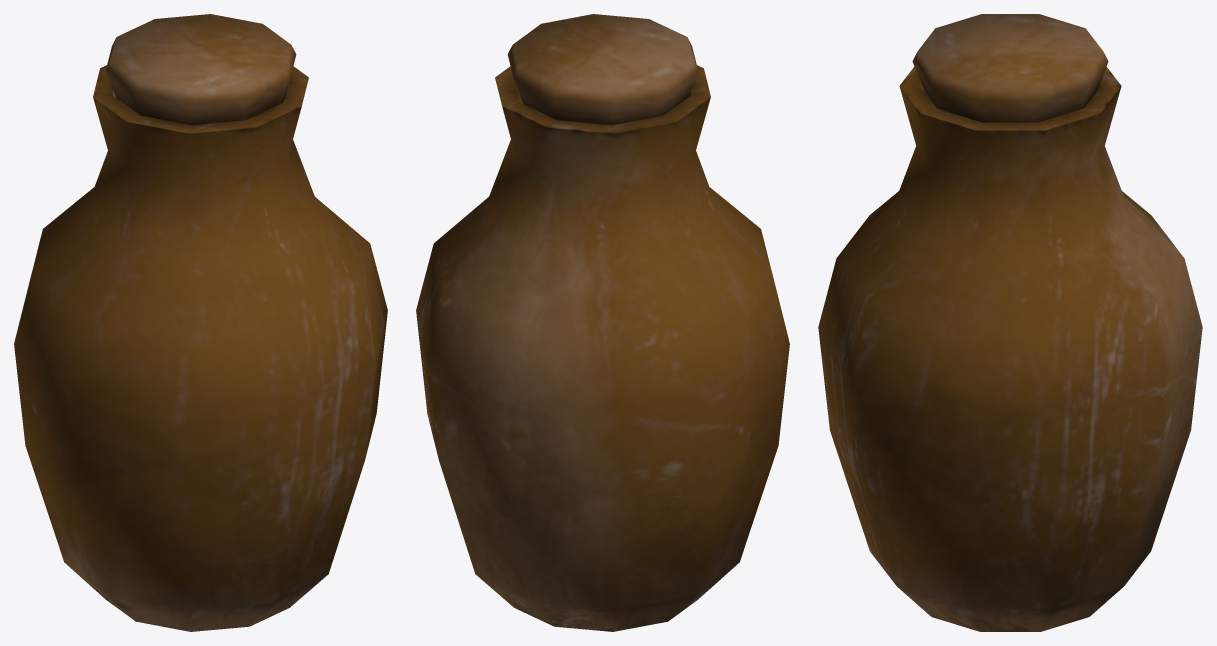
Rendered from Pot 3.fbx.
The picture shows the model from 3 angles, left to right: view 1: azimuth 30°, elevation 25°; view 2: azimuth 150°, elevation 25°; view 3: azimuth 270°, elevation 25°; orthographic projection.
Parts seen in each view (by area): view 1: Pot 3; view 2: Pot 3; view 3: Pot 3.
Boxes of the visible parts, left/top/right/bottom form: Pot 3: left=14, top=14, right=387, bottom=631; Pot 3: left=416, top=14, right=789, bottom=631; Pot 3: left=818, top=14, right=1202, bottom=631.
Size of the model in its own units: 0.3434 by 0.5611 by 0.3611.
